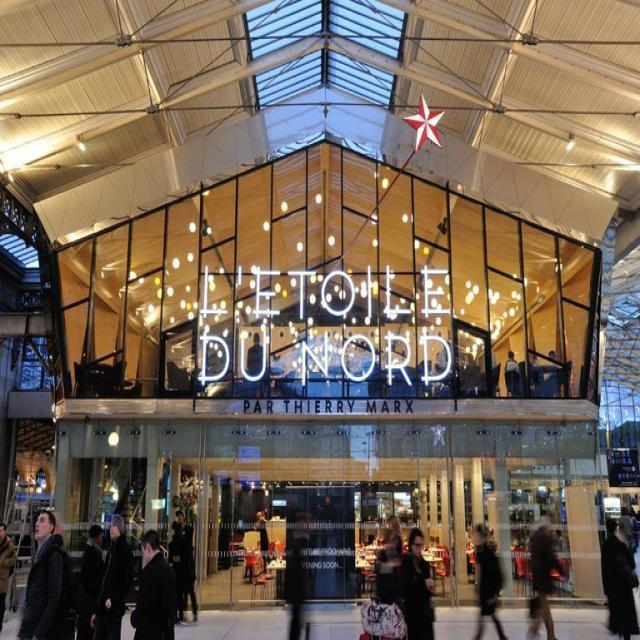body: (15, 506, 74, 639), (128, 527, 180, 640), (523, 515, 569, 640), (276, 506, 316, 640), (599, 515, 639, 639), (89, 511, 127, 639), (470, 520, 510, 639), (400, 526, 437, 624), (77, 523, 104, 640), (374, 525, 402, 634), (174, 507, 199, 624), (0, 521, 18, 633), (168, 520, 186, 626), (247, 332, 268, 401), (254, 510, 274, 576), (458, 520, 502, 550), (611, 506, 640, 551), (434, 340, 454, 376), (490, 346, 501, 394), (550, 527, 568, 556), (503, 348, 520, 373), (520, 528, 536, 552), (546, 348, 562, 368), (387, 514, 401, 536), (434, 349, 441, 364)
